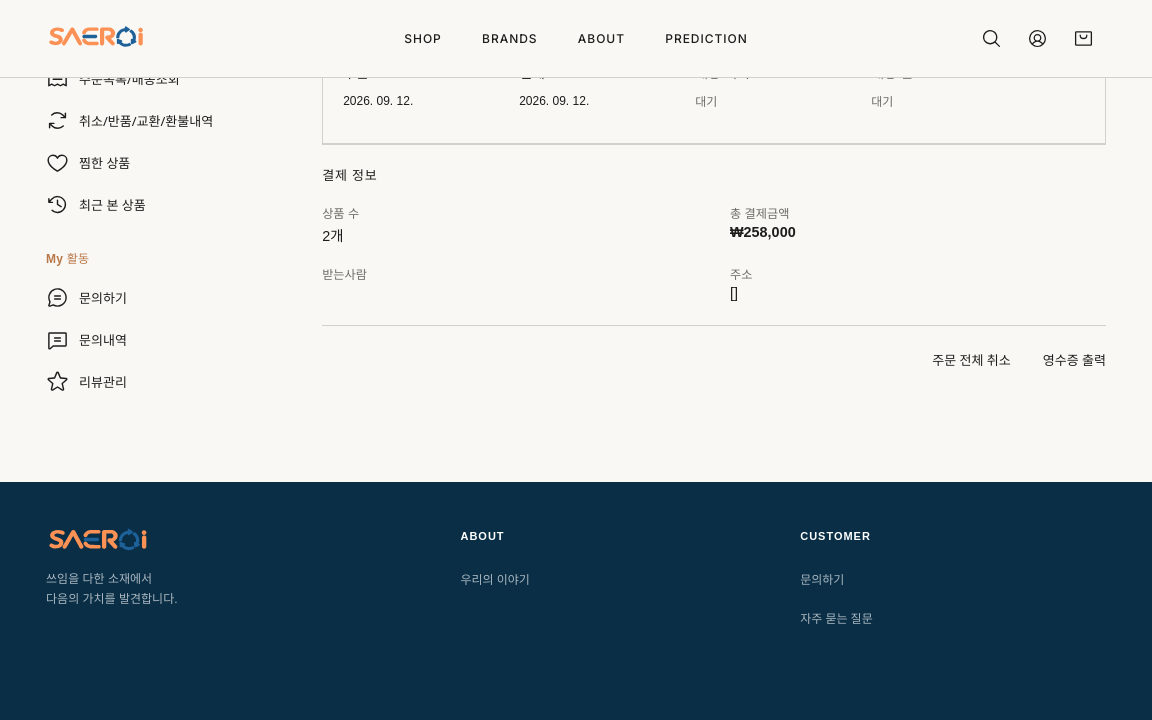
Scenario: consumer mypage route › 묶음 취소 확인창은 주문 상세 위에서 열리고 취소 뒤 결과 화면으로 이동한다
The width and height of the screenshot is (1152, 720).
(page scrolled)
Click the button "주문 전체 취소": (971, 360) [932,342,1011,378]
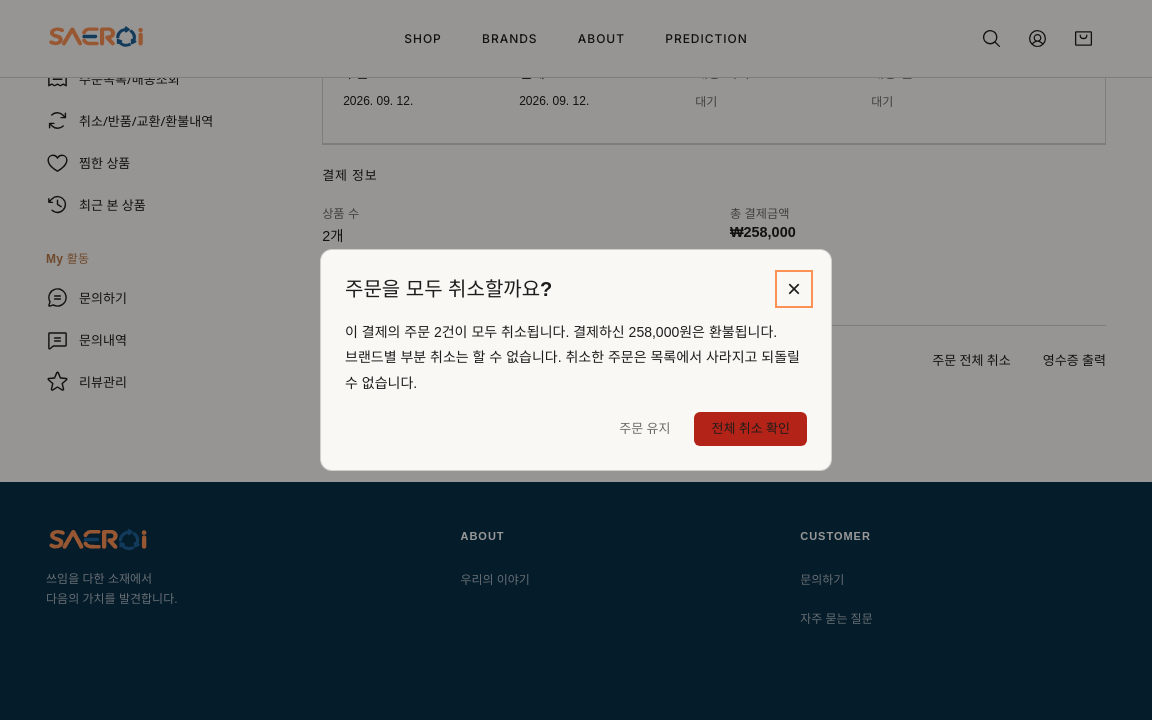
Now the dialog is shown, box [320,249,832,471]
Click the button "전체 취소 확인": (751, 429) [694,412,807,446]
(page scrolled)
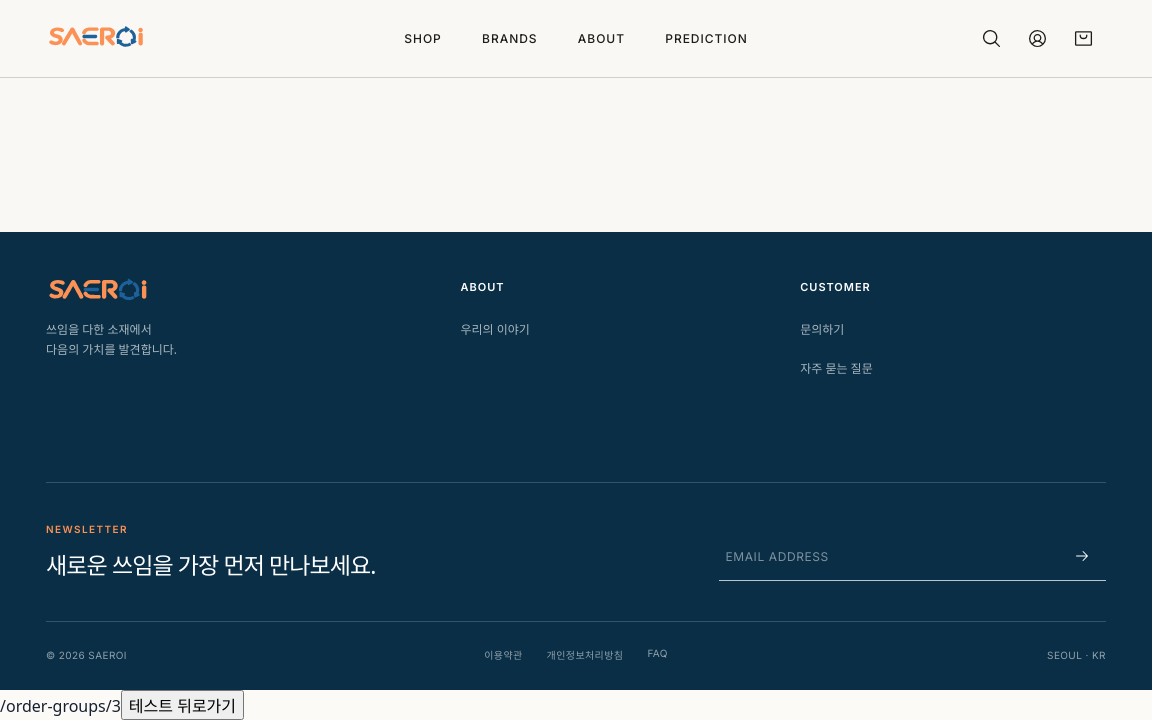
Now the text with test id "current-path" reads "/order-groups/3", box [0,695,121,717]
